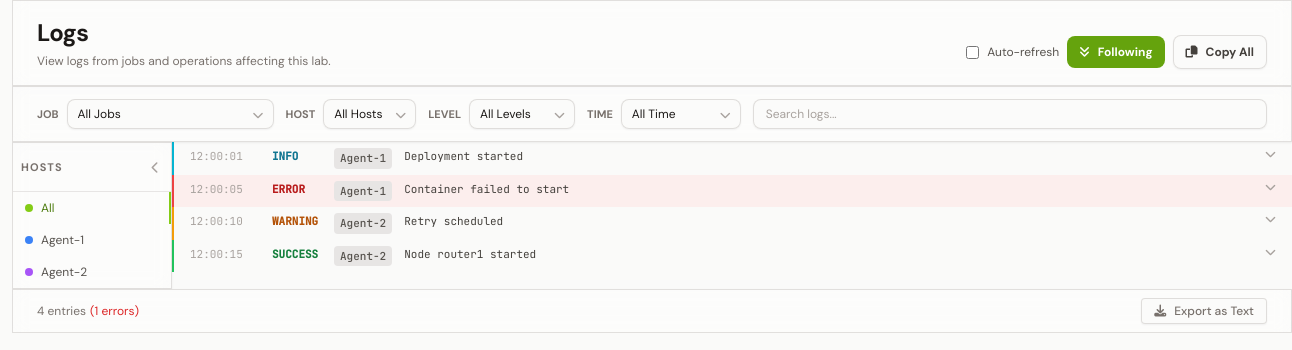
LogsView - details and pipeline › collapses and expands host sidebar
This screenshot has width=1292, height=350.
Check: the text "Deployment started" is shown, box left=404, top=149, right=523, bottom=163
Check: the text "Hosts" is shown, box left=21, top=159, right=63, bottom=175
Click the 3rd button: (155, 167) left=148, top=151, right=163, bottom=183
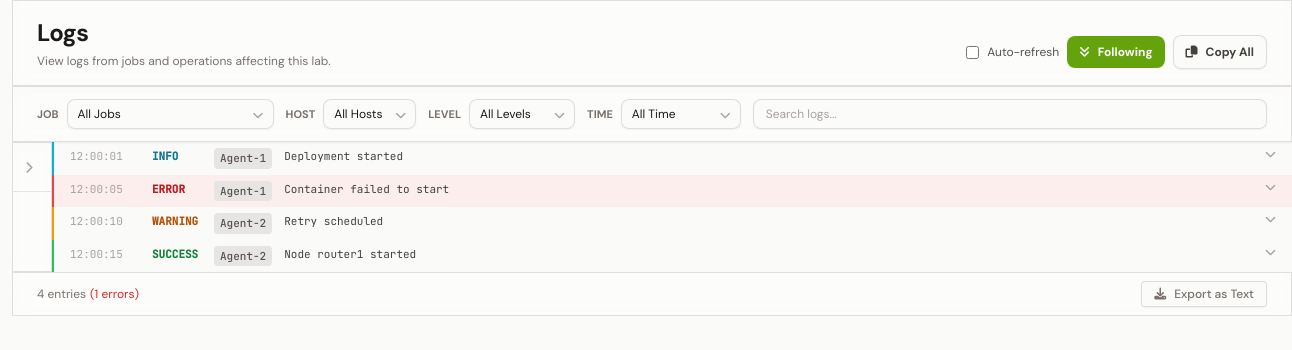
Click the 3rd button: (29, 167) left=21, top=151, right=36, bottom=183
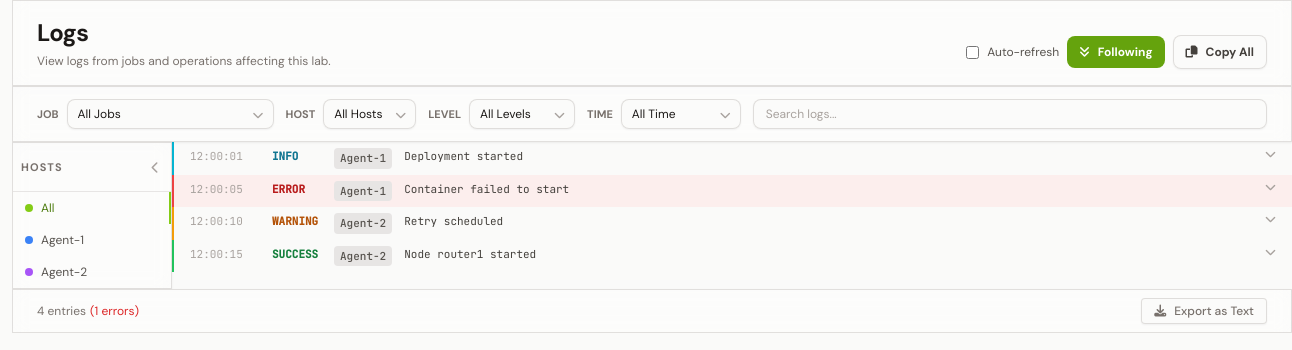
Check: the text "Hosts" is shown, box left=21, top=159, right=63, bottom=175
